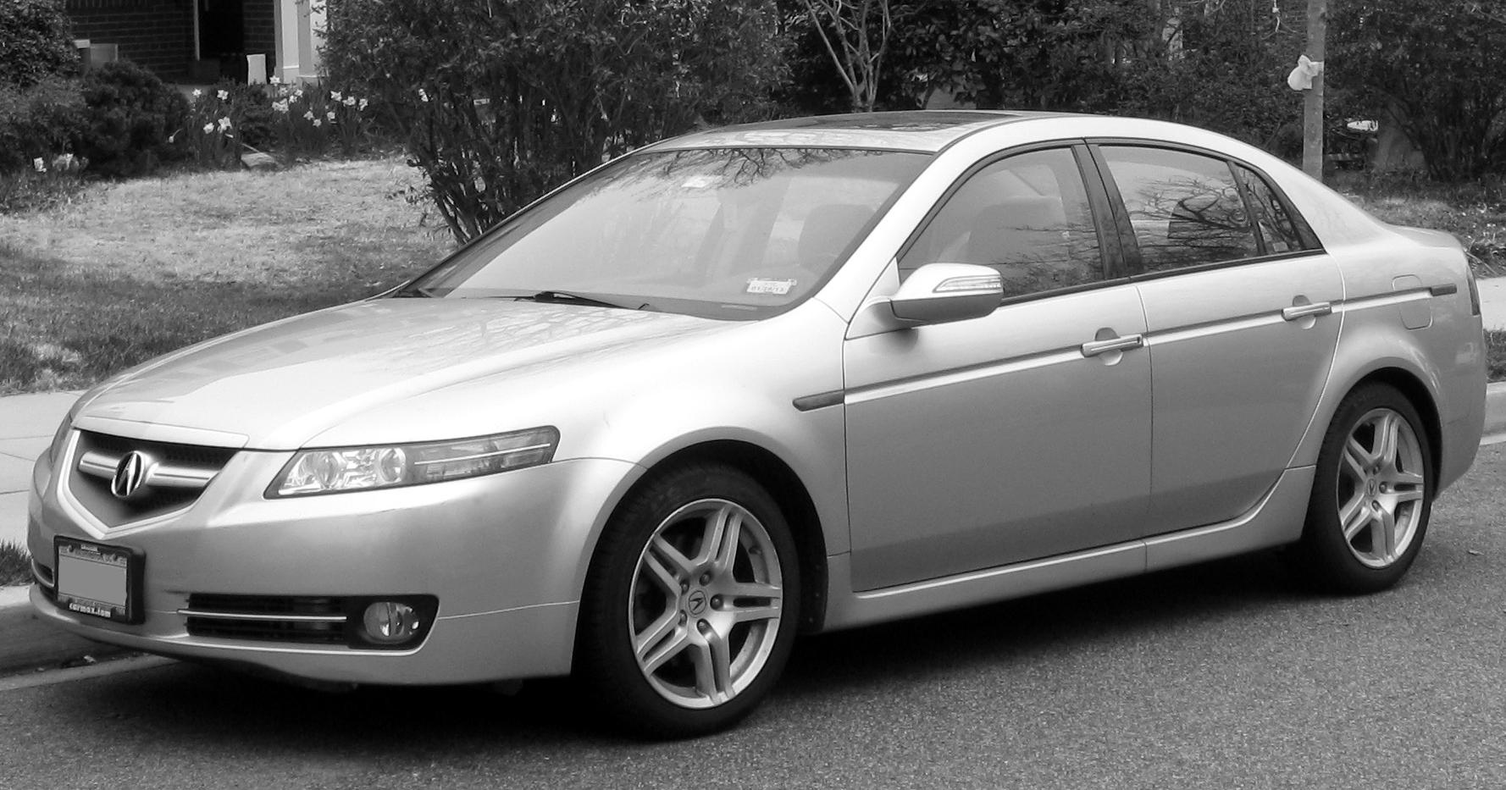car: (25, 103, 1491, 738)
